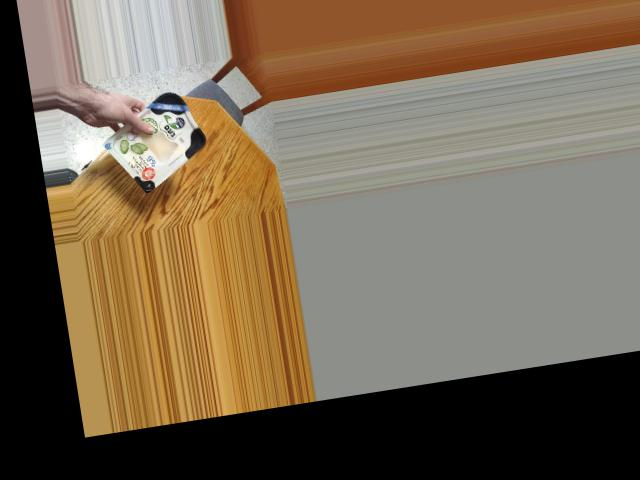cheese: (110, 86, 218, 188)
